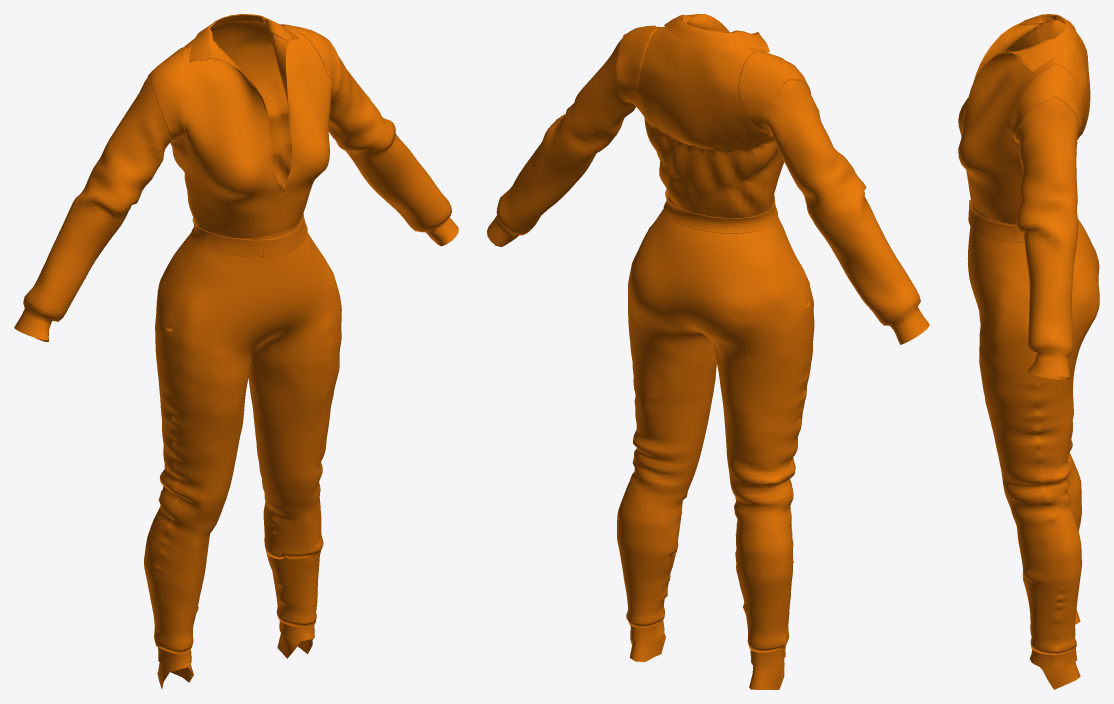
Rendered from conjuntofem2.glb.
3 renders of one model, left to right at view 1: azimuth 30°, elevation 25°; view 2: azimuth 150°, elevation 25°; view 3: azimuth 270°, elevation 25°, orthographic. The views are drawn at different scales.
Visible parts, largest first — view 1: hash_99D7DA7D.model, hash_D067EE79.model; view 2: hash_99D7DA7D.model, hash_D067EE79.model; view 3: hash_99D7DA7D.model, hash_D067EE79.model.
Boxes of the visible parts, <box> form: hash_99D7DA7D.model: <box>144,213,341,688</box>; hash_D067EE79.model: <box>14,14,458,341</box>; hash_99D7DA7D.model: <box>617,190,814,689</box>; hash_D067EE79.model: <box>487,14,929,344</box>; hash_99D7DA7D.model: <box>967,199,1099,689</box>; hash_D067EE79.model: <box>958,14,1090,379</box>.
Size of the model in its own units: 1.1 by 1.56 by 0.317.
